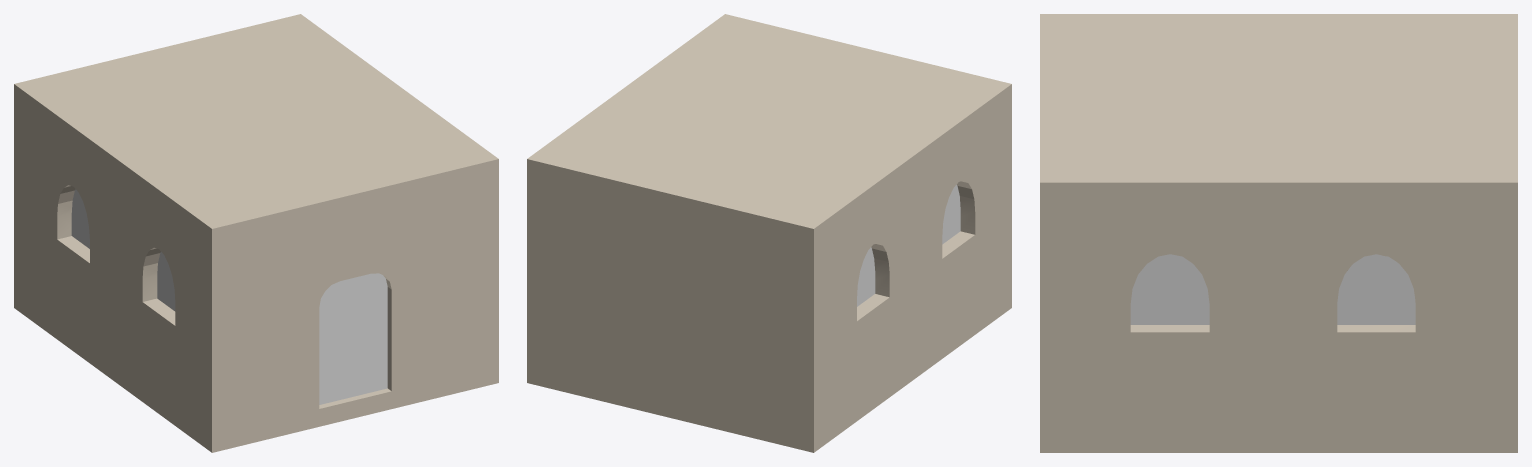
Rendered from cuDoMagico.fbx.
The picture shows the model from 3 angles, left to right: view 1: azimuth 30°, elevation 25°; view 2: azimuth 150°, elevation 25°; view 3: azimuth 270°, elevation 25°; orthographic projection. The views are drawn at different scales.
Visible parts, largest first — view 1: fundo, Cube; view 2: fundo, Cube; view 3: fundo, Cube.
Boxes of the visible parts, box(x1,y1,x2,y2) form: fundo: box(14, 14, 498, 452); Cube: box(71, 189, 387, 404); fundo: box(527, 14, 1011, 452); Cube: box(857, 184, 960, 306); fundo: box(1040, 14, 1517, 452); Cube: box(1130, 254, 1415, 324).
Size of the model in its own units: 667 by 498 by 799.
